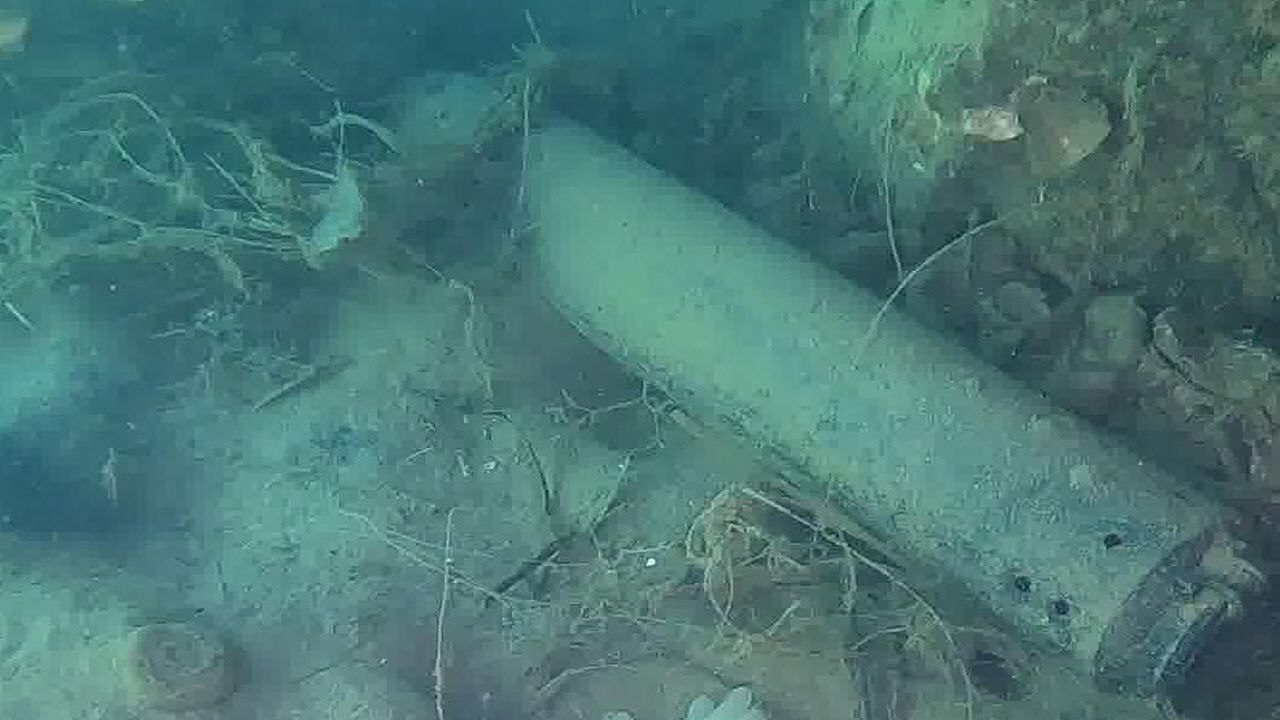eel fish trap: (382, 74, 1259, 693)
